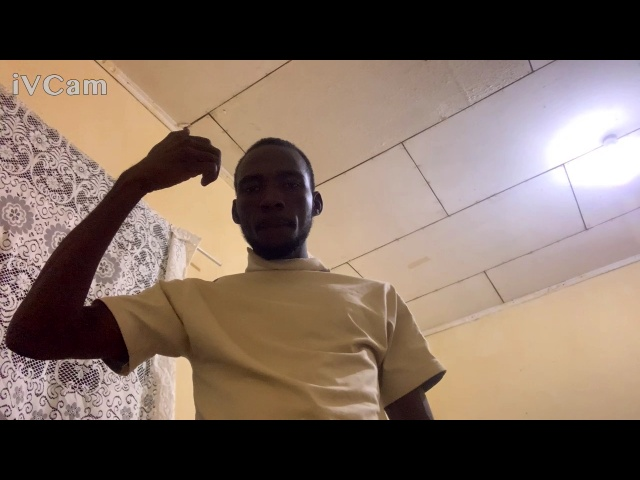je ne sais pas: (121, 122, 250, 210)
